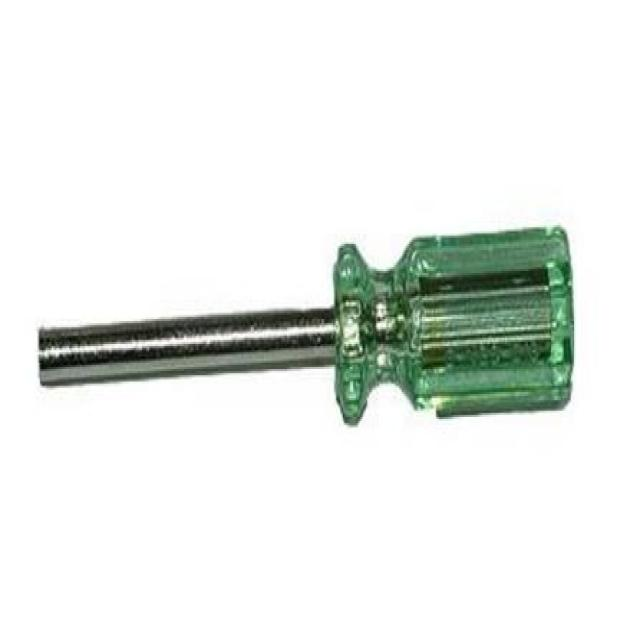screw driver: (39, 204, 640, 448)
